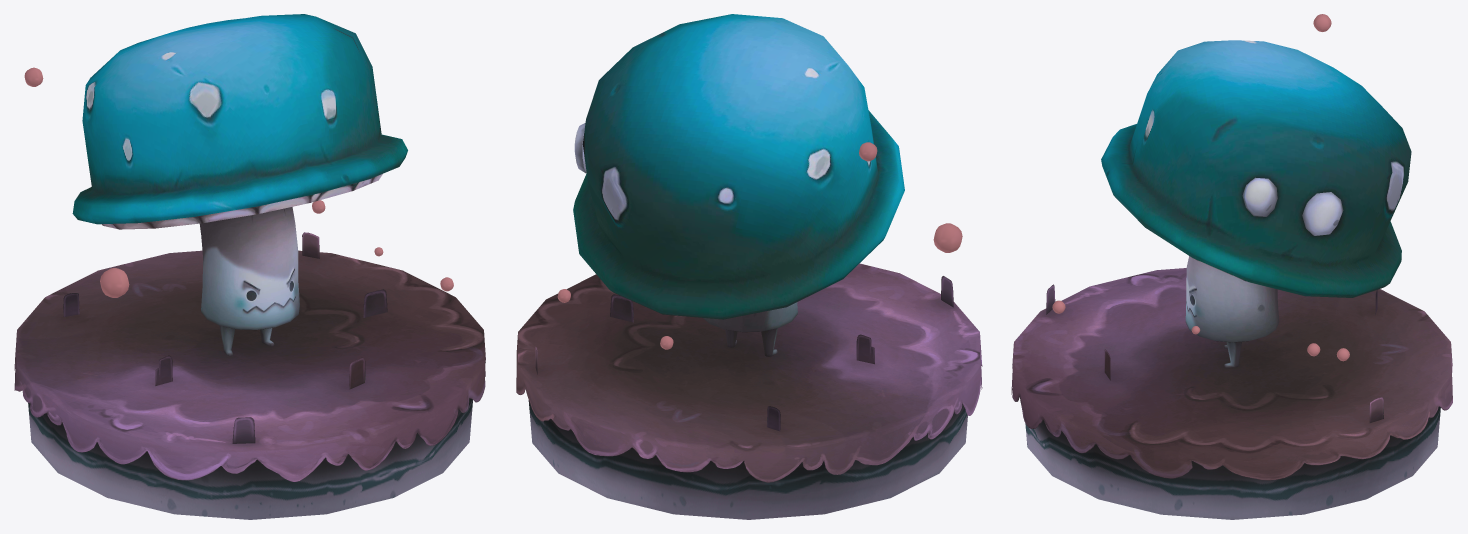
File: mushroom136.gltf
3 views of the same model, side by side, from view 1: azimuth 30°, elevation 25°; view 2: azimuth 150°, elevation 25°; view 3: azimuth 270°, elevation 25° (orthographic). The views are drawn at different scales.
Visible parts, largest first — view 1: Mesh_0, Mesh_1; view 2: Mesh_0, Mesh_1; view 3: Mesh_0, Mesh_1.
Part boxes in pixels (x1,y1,x2,y2): Mesh_0: (14,67,485,519); Mesh_1: (72,14,407,356); Mesh_0: (516,142,982,519); Mesh_1: (573,14,904,356); Mesh_0: (1011,14,1452,519); Mesh_1: (1101,40,1411,367).
Bounding box in the file's own units: 2.97 × 2.71 × 2.92.
2 materials, 2 textured.
